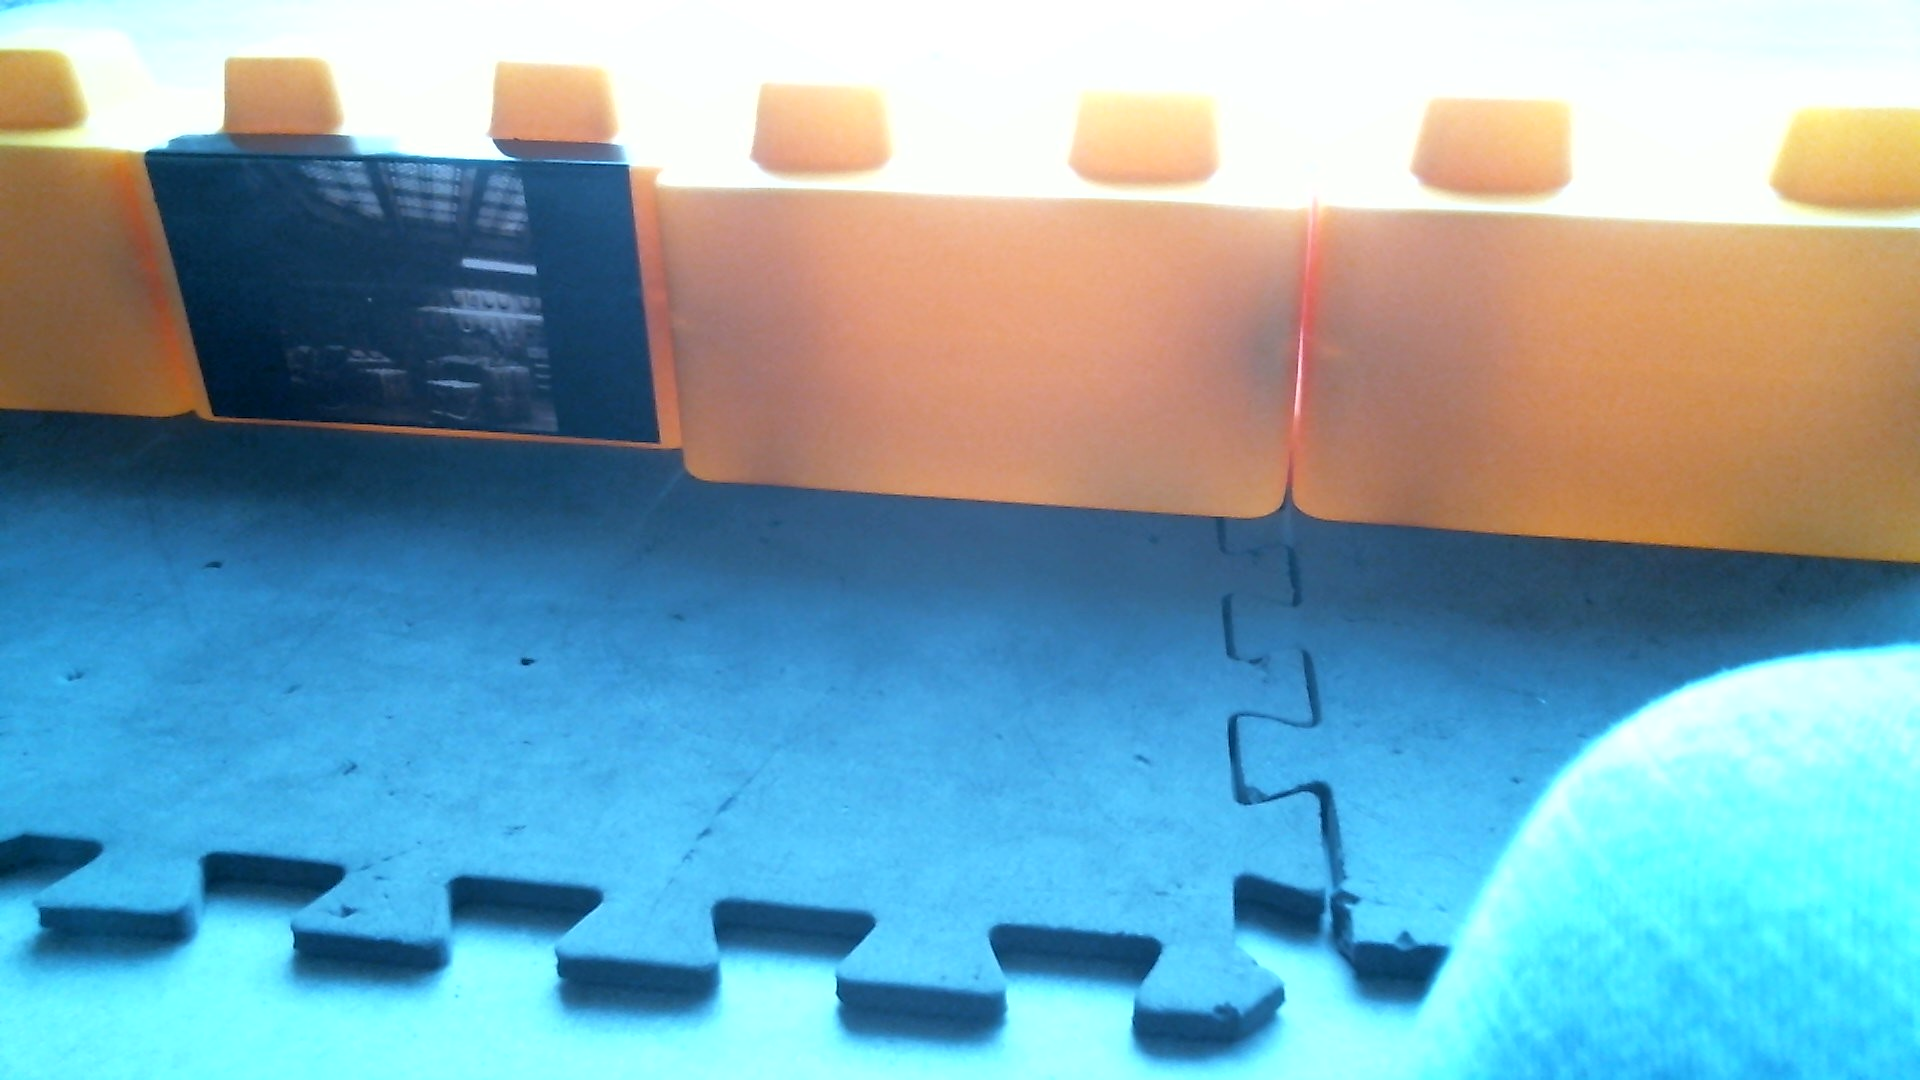left: (105, 36, 1920, 601)
